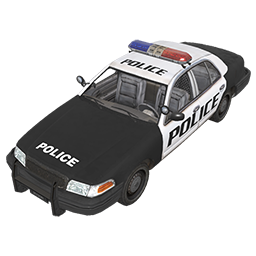car: (4, 39, 256, 219)
